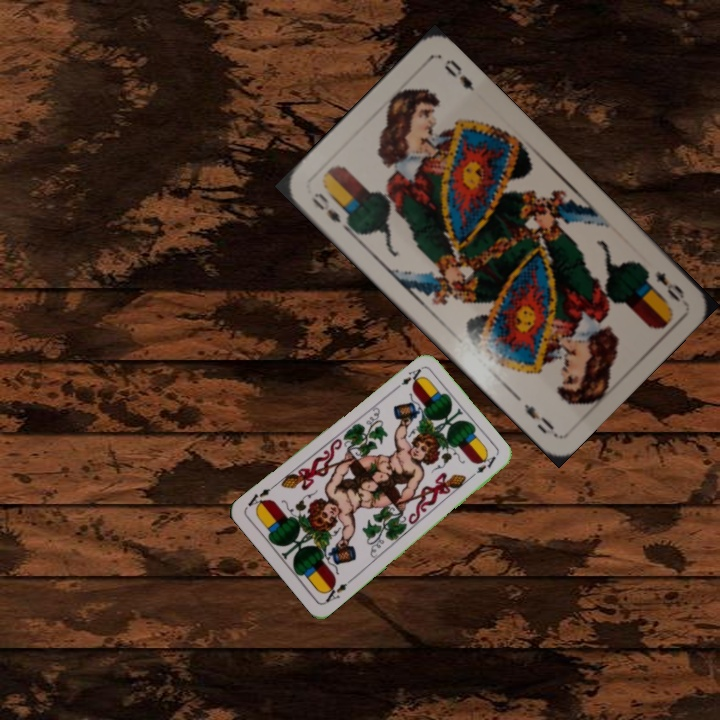EA: (389, 365, 424, 394), (318, 579, 349, 606)
EO: (307, 189, 353, 233), (651, 267, 687, 305)
